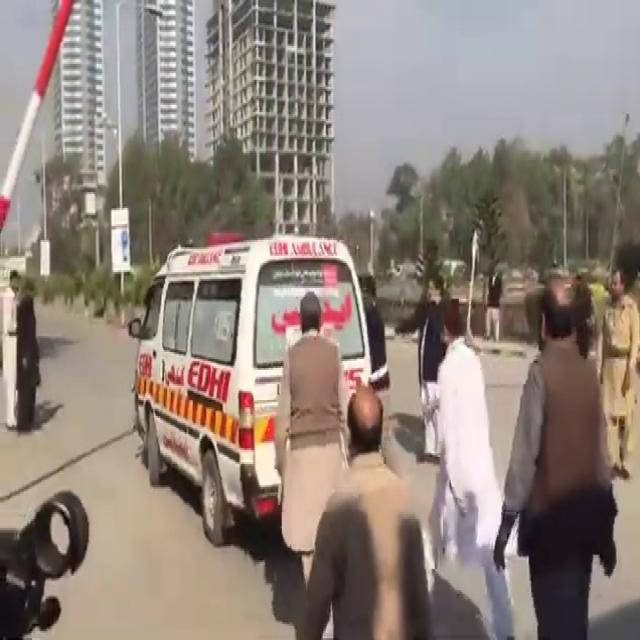ambulance: (121, 185, 412, 544)
